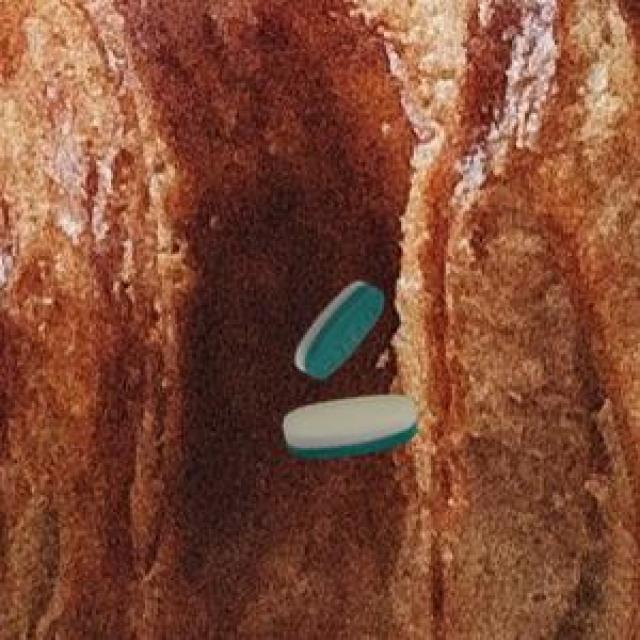Neozep: (282, 266, 390, 386), (276, 388, 428, 463)
